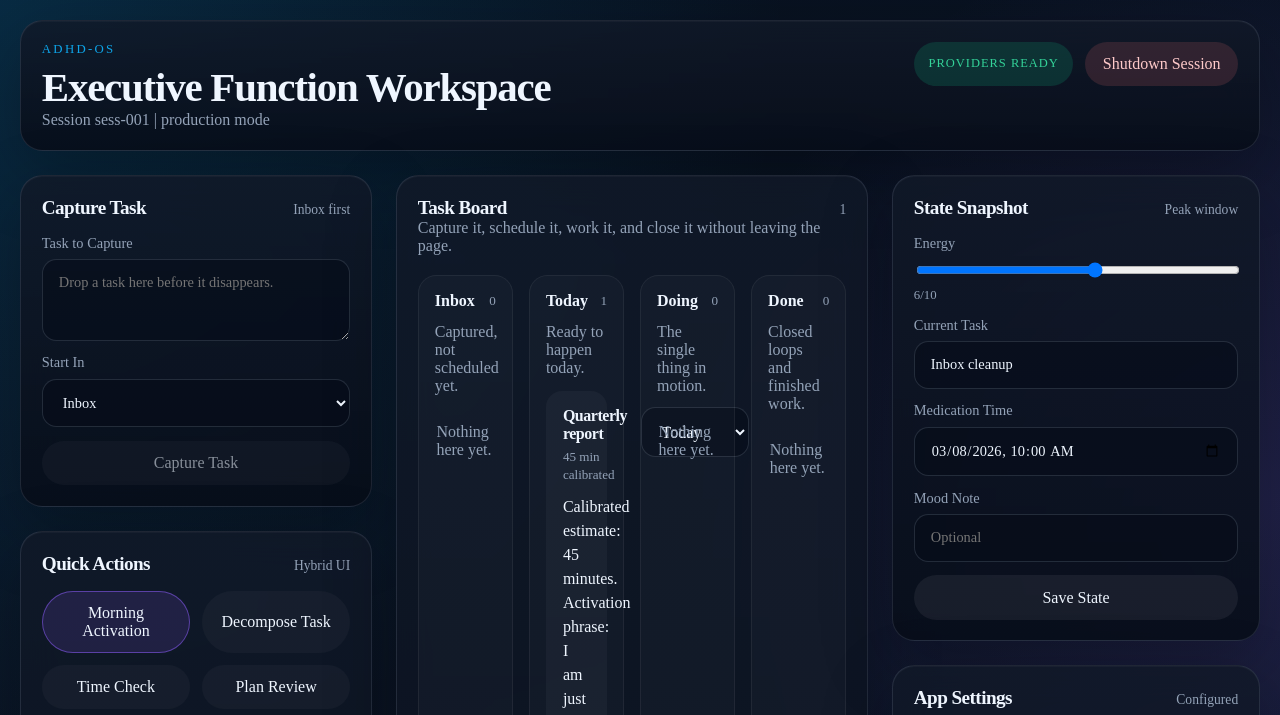
Test case: App › captures a task into the board
Expected: the heading "Executive Function Workspace" is shown, [42,63,550,111]
Type "Pay internet bill" into the text box labelled "Task to Capture".
click(196, 300); type("Pay internet bill")  # box [42,259,350,341]
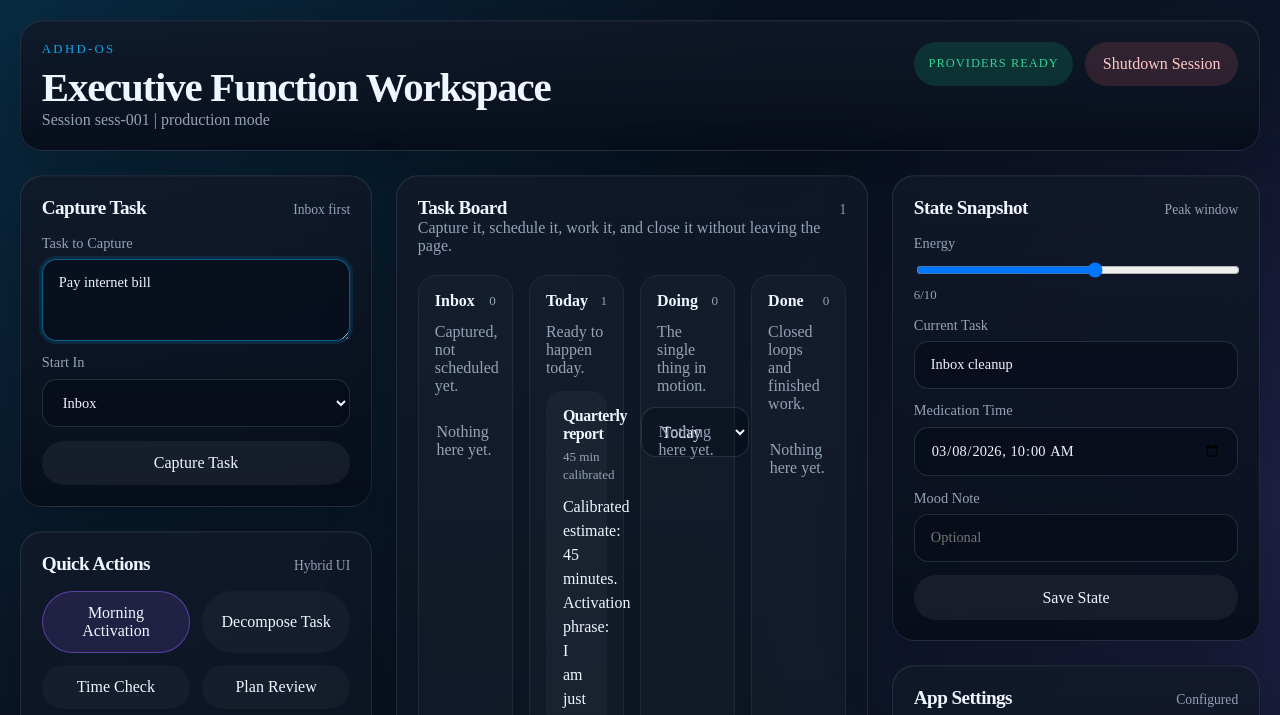
Click the button "Capture Task".
click(196, 463)  # box [42,441,350,485]
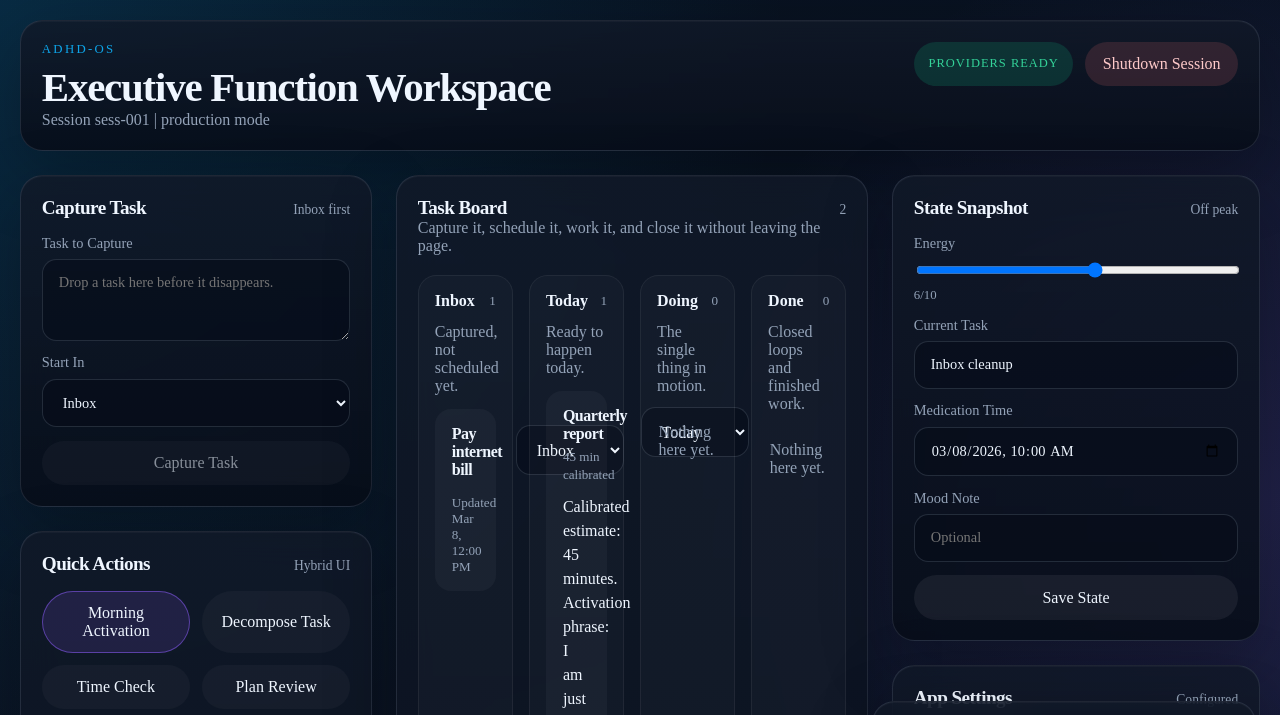
Now the heading "Pay internet bill" is shown, box [452,425,502,479]
